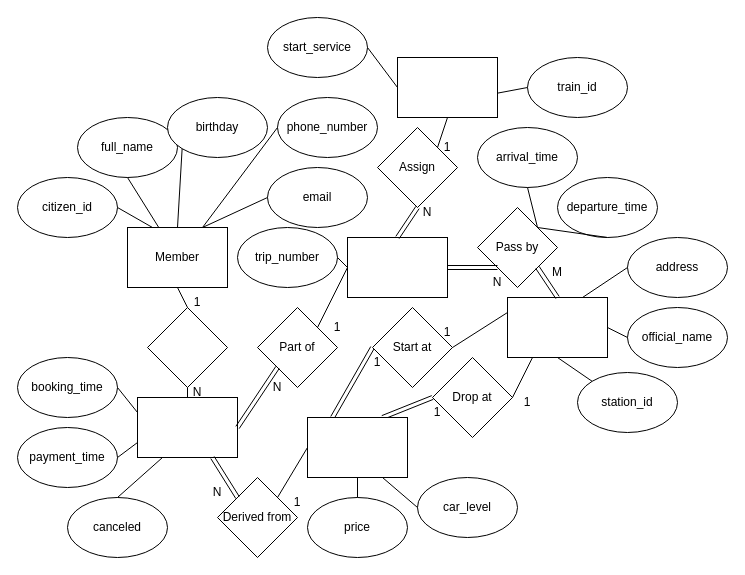
This 745x575 diagram has some shape labels left out. Here are the shapes that lost their labels. From the top down, the centre of each, then its label:
At point (447, 87): "Train".
At point (397, 267): "Trip".
At point (187, 347): "Buy ticket".
At point (557, 327): "Station".
At point (187, 427): "Ticket".
At point (357, 447): "Ticket_Type".
